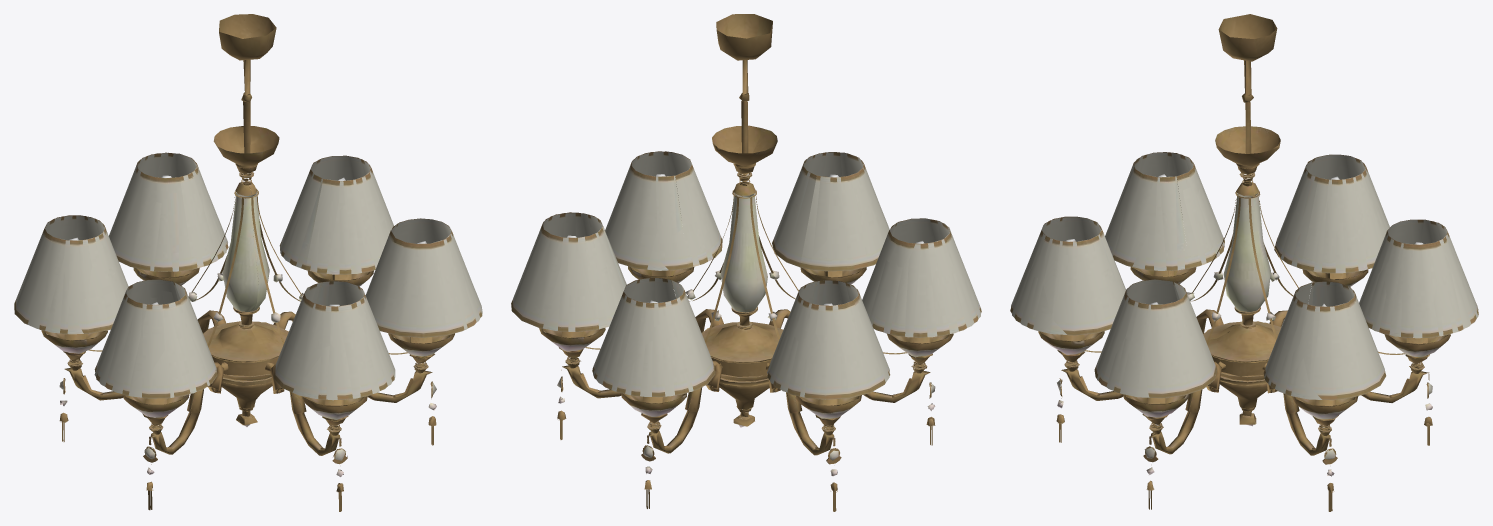
The model's file is chandelier_lo.glb.
3 renders of one model, left to right at view 1: azimuth 30°, elevation 25°; view 2: azimuth 150°, elevation 25°; view 3: azimuth 270°, elevation 25°, orthographic.
Parts seen in each view (by area): view 1: Chandelier_01; view 2: Chandelier_01; view 3: Chandelier_01.
Part boxes in pixels (x1,y1,x2,y2): Chandelier_01: [14, 14, 482, 511]; Chandelier_01: [511, 14, 981, 511]; Chandelier_01: [1010, 14, 1478, 511].
Size of the model in its own units: 0.7466 by 0.7983 by 0.8159.
Materials: 2 (1 with a texture image).
